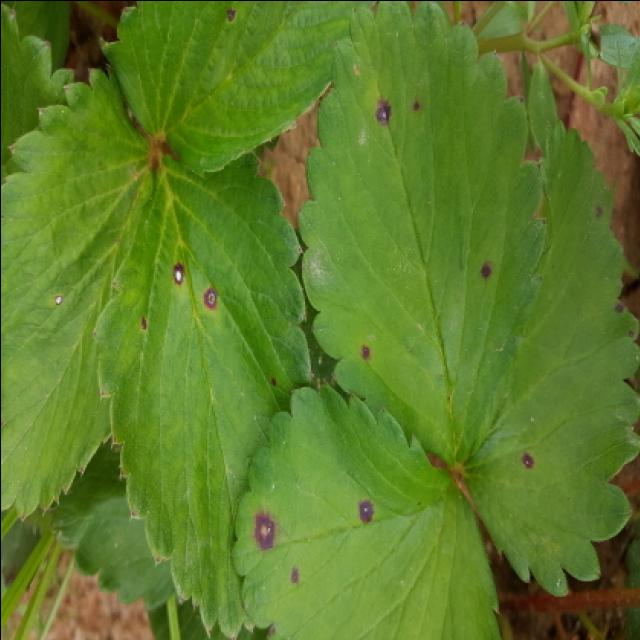Leaf Spot: (296, 2, 545, 478), (90, 149, 310, 640), (459, 121, 638, 599), (0, 64, 159, 520), (229, 382, 503, 640), (97, 2, 367, 173)
